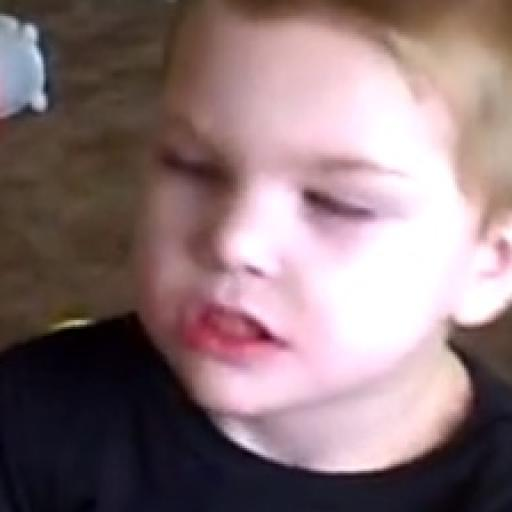Autism: (99, 0, 512, 435)
